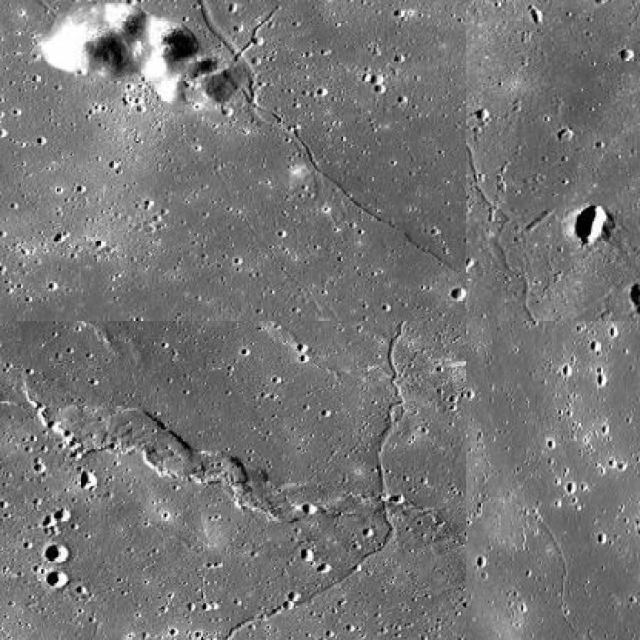rille: (63, 320, 465, 638), (4, 0, 458, 272), (466, 0, 550, 318), (466, 489, 625, 638)
